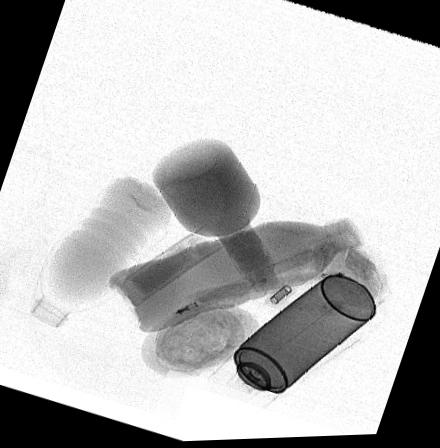Sprayer: (207, 276, 375, 411)
